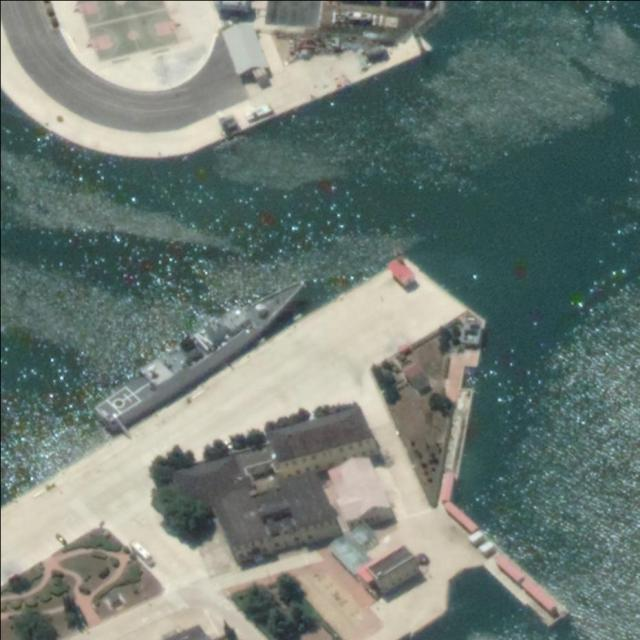Auxiliary Ships: (85, 270, 312, 428)
